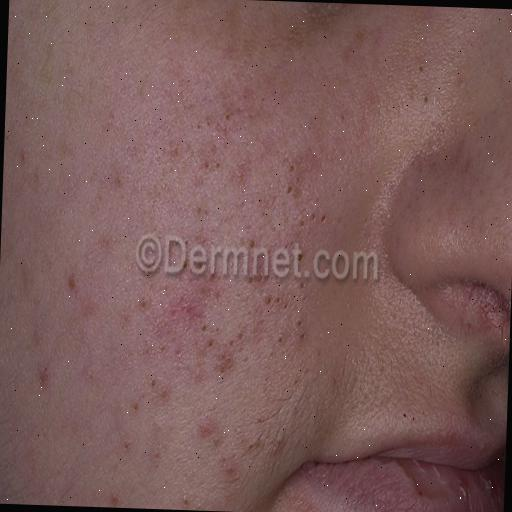Skin_Lesion: (198, 423, 242, 482), (246, 262, 288, 316), (172, 289, 210, 336), (208, 340, 246, 385), (178, 255, 221, 280), (282, 158, 302, 201), (148, 376, 171, 402), (205, 149, 224, 180), (307, 202, 329, 228), (34, 366, 54, 394), (286, 249, 312, 267), (66, 269, 82, 298), (132, 294, 153, 316), (294, 322, 312, 346), (272, 328, 287, 355), (190, 207, 212, 225), (294, 274, 308, 300), (238, 318, 252, 344), (268, 432, 282, 456), (150, 448, 165, 470), (128, 403, 146, 421), (170, 134, 182, 160), (120, 438, 134, 458), (17, 147, 31, 167), (140, 332, 150, 360), (234, 164, 248, 184), (177, 492, 192, 510), (294, 216, 306, 236), (247, 234, 260, 252), (110, 171, 123, 188), (105, 490, 123, 502), (172, 348, 186, 363), (20, 274, 32, 291), (414, 60, 428, 74), (158, 338, 168, 356), (420, 92, 430, 106), (221, 110, 231, 122), (86, 370, 96, 382), (30, 328, 39, 341)
